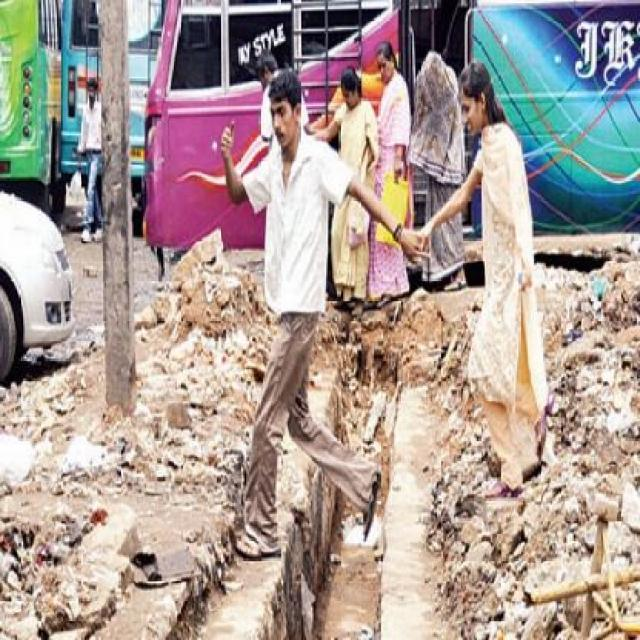garbage: (543, 262, 639, 639), (148, 243, 242, 474), (5, 423, 114, 594), (460, 466, 539, 638), (329, 300, 442, 393)
